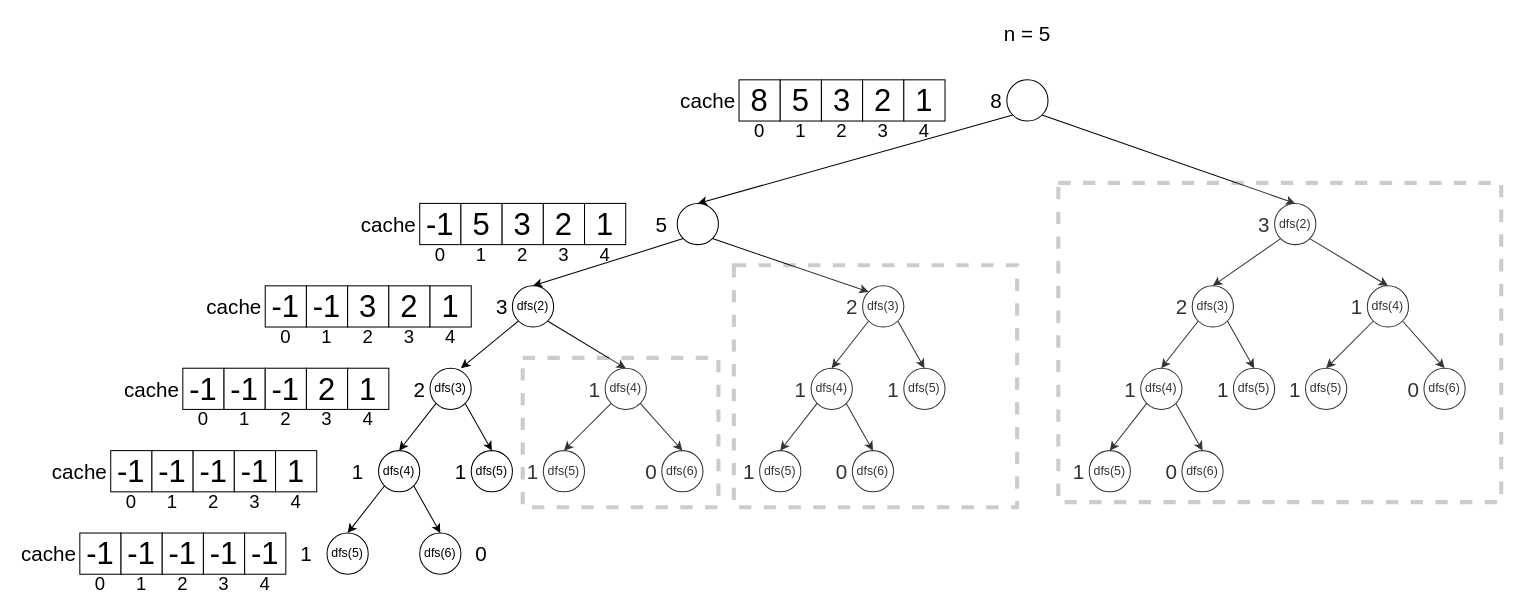
The diagram is 1520 pixels wide and 613 high, and some of its shapes have lost their labels. The centre of each missing label's shape, as x and y in pixels:
cache[2]: point 1279,342
cache[3]: point 875,386
cache[4]: point 620,432
dfs(0): point 1027,100
dfs(1): point 697,223
